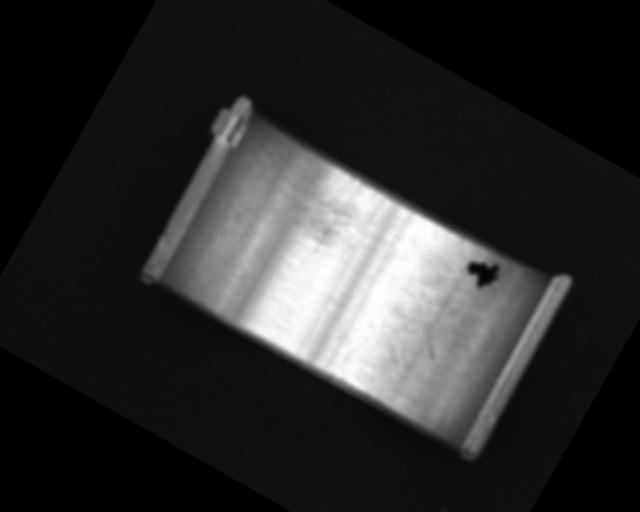blot: (459, 250, 506, 296)
bruise: (379, 342, 413, 376)
nick: (396, 290, 461, 360)
scratch: (238, 133, 391, 272)
